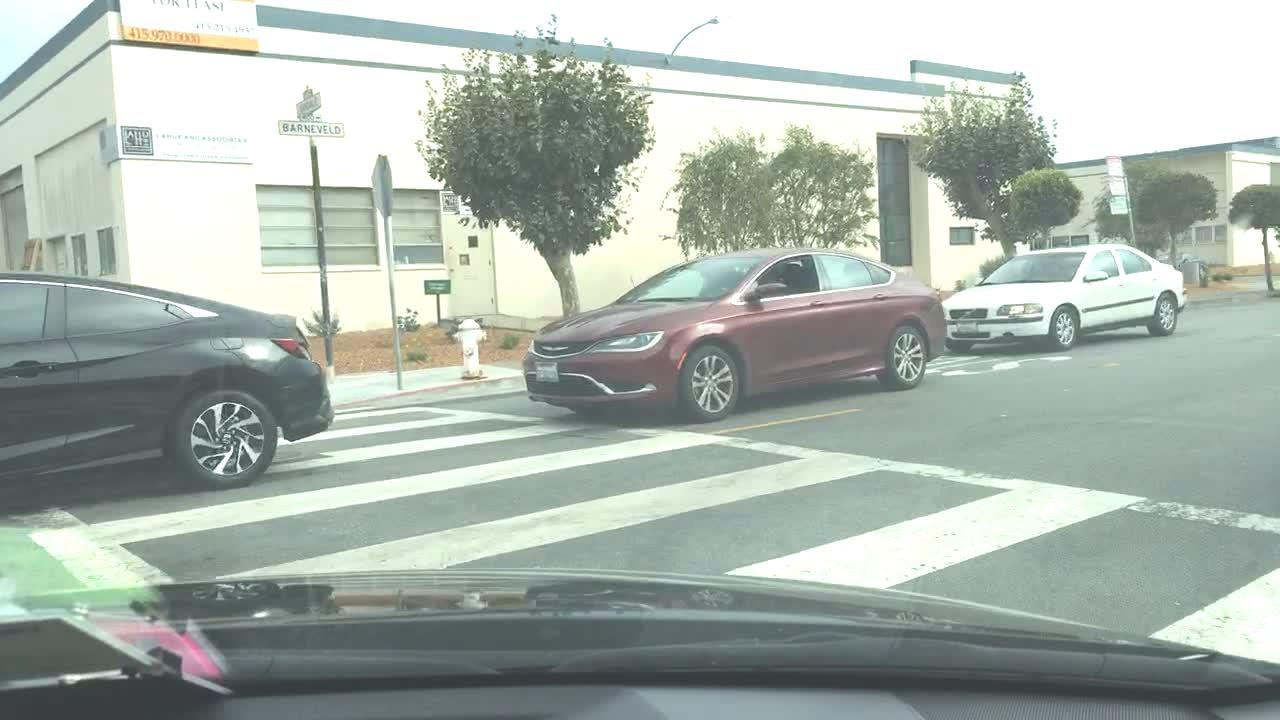Chrysler: (537, 339, 576, 356)
